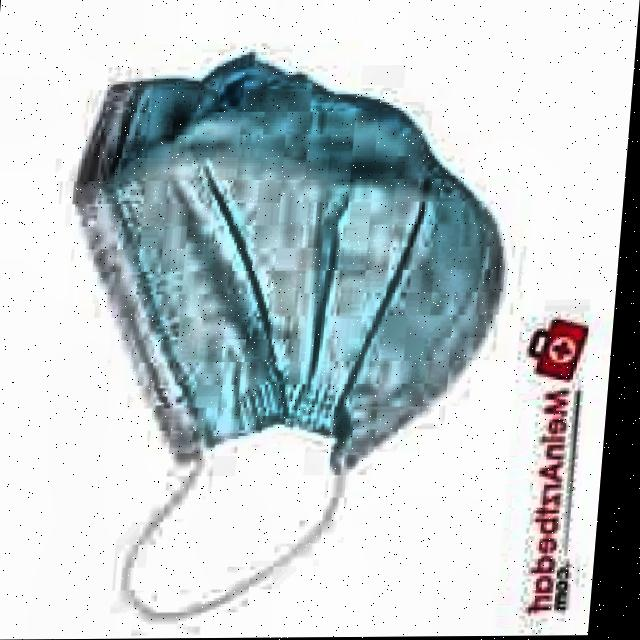trash: (47, 56, 519, 477)
